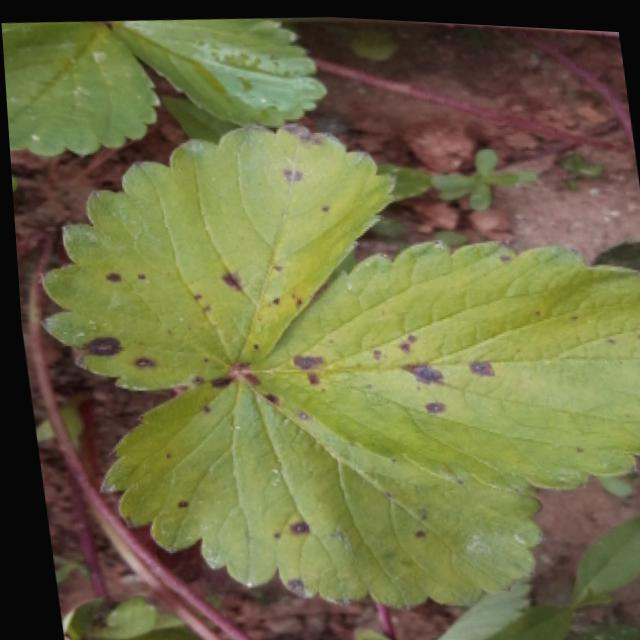Leaf Spot: (235, 230, 640, 486), (91, 378, 543, 605), (33, 119, 396, 389)
